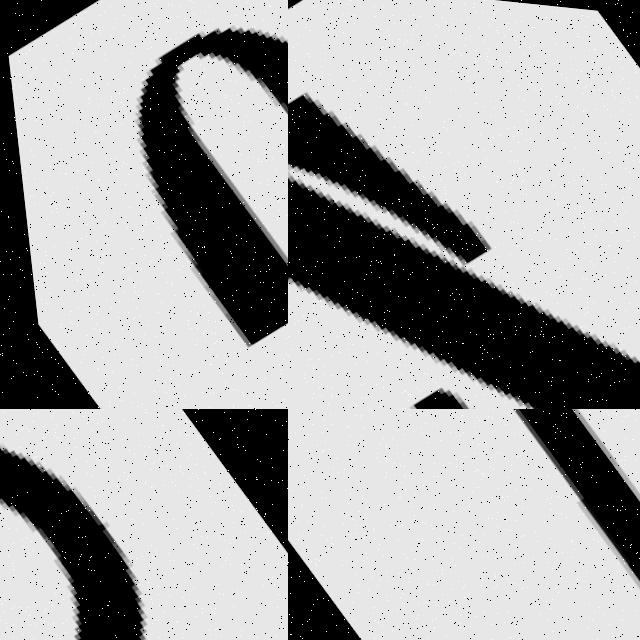9: (0, 409, 288, 640)
E: (132, 23, 288, 345)
L: (288, 409, 640, 640)
Z: (288, 0, 640, 409)
